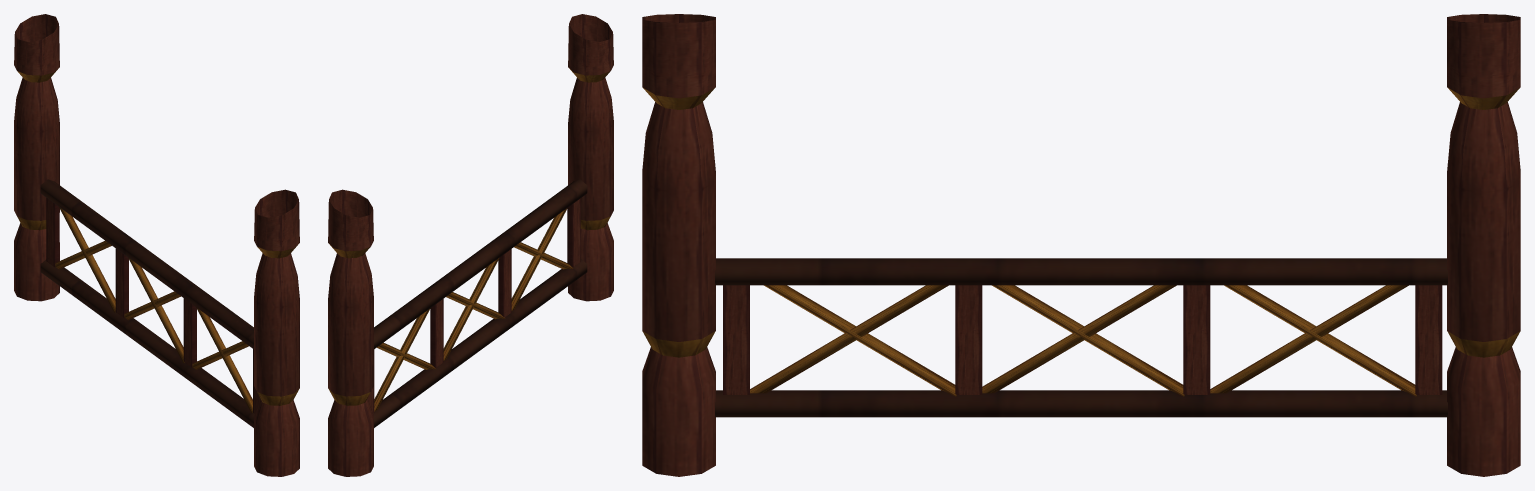
File: Kit_PillarFence_01.FBX
3 renders of one model, left to right at view 1: azimuth 30°, elevation 25°; view 2: azimuth 150°, elevation 25°; view 3: azimuth 270°, elevation 25°, orthographic. The views are drawn at different scales.
Visible parts, largest first — view 1: Kit_PillarFence_01; view 2: Kit_PillarFence_01; view 3: Kit_PillarFence_01.
Boxes of the visible parts, x1,y1,x2,y2 form: Kit_PillarFence_01: (14, 14, 299, 476); Kit_PillarFence_01: (328, 14, 613, 476); Kit_PillarFence_01: (642, 14, 1520, 476).
Bounding box in the file's own units: 0.3857 × 4.38 × 2.49.
